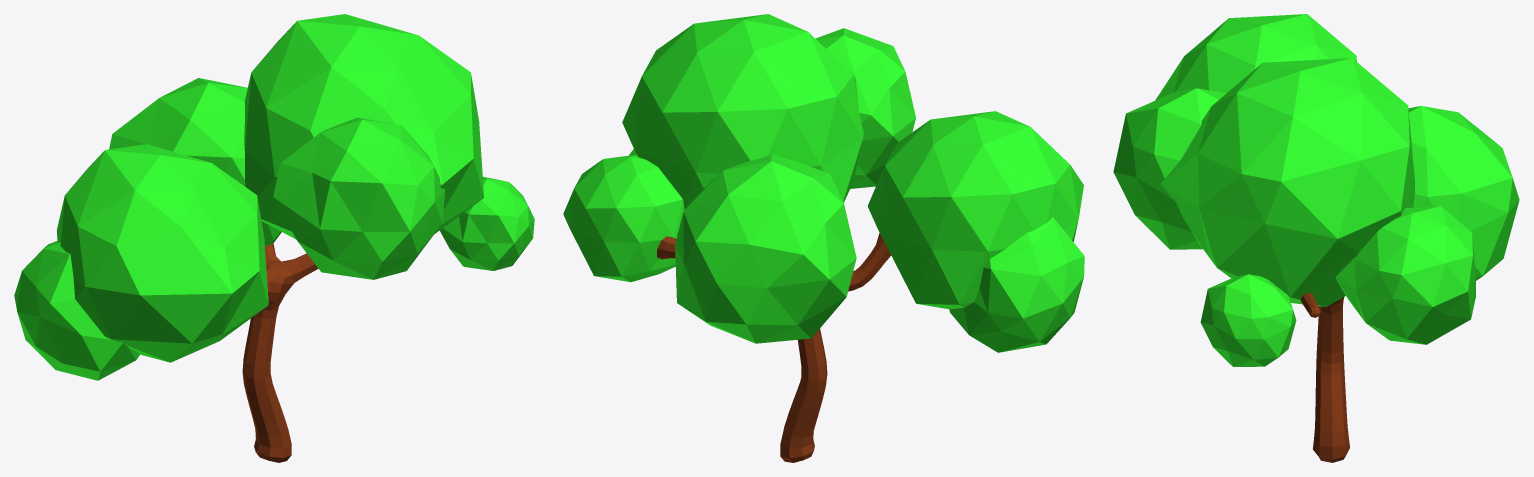
The model's file is Tree1.fbx.
The picture shows the model from 3 angles, left to right: view 1: azimuth 30°, elevation 25°; view 2: azimuth 150°, elevation 25°; view 3: azimuth 270°, elevation 25°; orthographic projection. The views are drawn at different scales.
Parts seen in each view (by area): view 1: Icosphere; view 2: Icosphere; view 3: Icosphere.
Boxes of the visible parts, x1,y1,x2,y2 form: Icosphere: [14, 14, 534, 462]; Icosphere: [563, 14, 1084, 462]; Icosphere: [1113, 14, 1519, 462].
Bounding box in the file's own units: 1154 × 987 × 862.
Materials: 1 (1 with a texture image).
